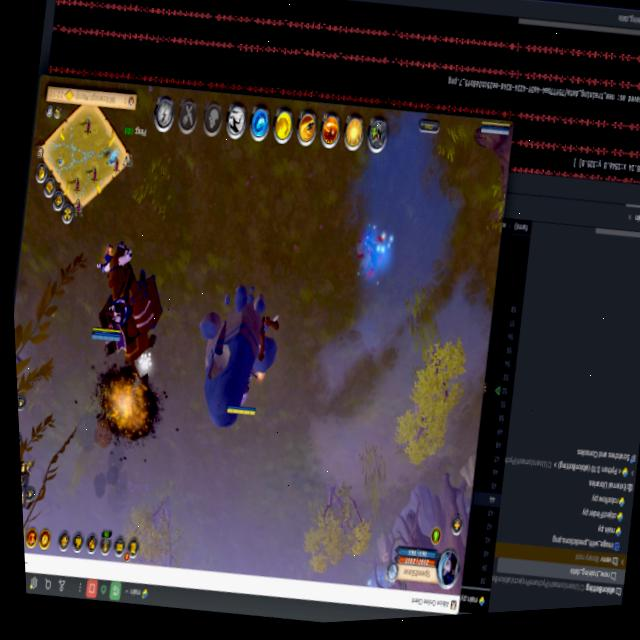red: (78, 228, 180, 374), (218, 353, 267, 430), (473, 114, 513, 150)
stone: (134, 345, 154, 381)
